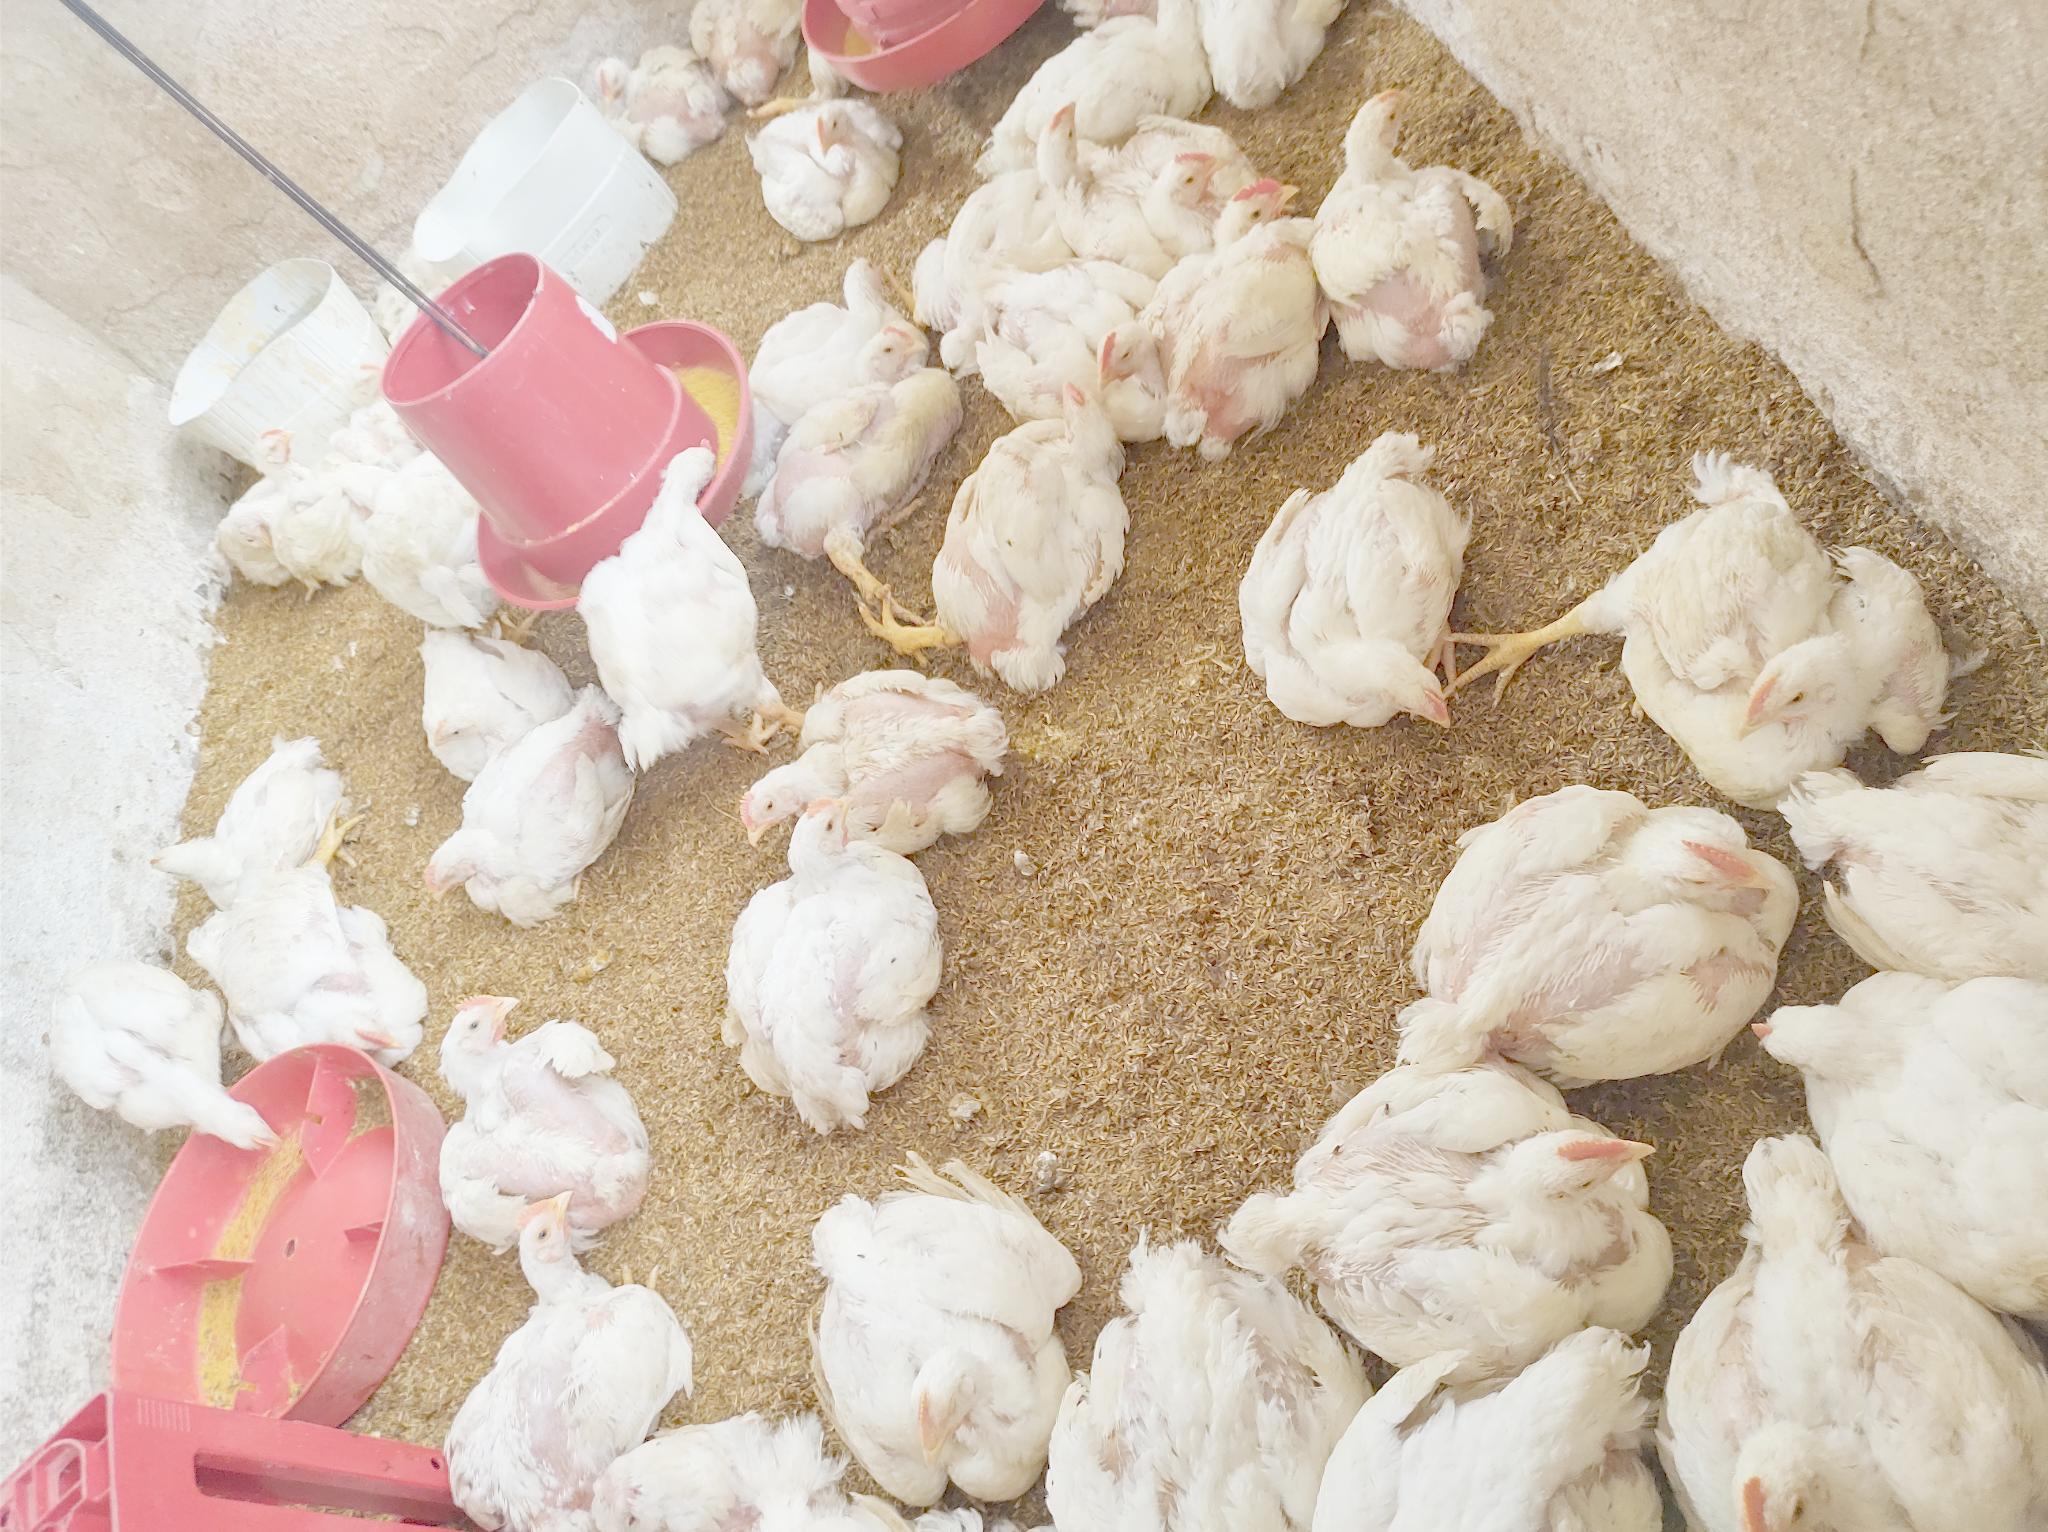Pollos: (1646, 1122, 2048, 1532), (1594, 444, 1955, 809), (1244, 1064, 1710, 1340), (1017, 1218, 1371, 1532), (1749, 969, 2046, 1332), (1404, 789, 1768, 1073), (714, 789, 936, 1152), (814, 1167, 1063, 1489), (442, 1188, 685, 1506), (1247, 444, 1480, 743), (1778, 713, 2048, 969), (573, 443, 777, 769), (1319, 85, 1532, 365), (936, 381, 1126, 690), (729, 658, 1002, 866), (428, 982, 647, 1238), (1084, 219, 1329, 446), (42, 949, 288, 1167), (193, 858, 426, 1072), (751, 323, 954, 570), (426, 710, 631, 929), (914, 85, 1091, 320), (137, 739, 357, 898), (970, 261, 1170, 431), (989, 0, 1200, 158), (409, 618, 581, 789), (333, 455, 507, 621), (740, 254, 911, 420), (203, 425, 336, 591), (753, 92, 901, 233), (1131, 130, 1228, 299), (587, 48, 726, 158), (228, 489, 373, 583), (692, 0, 811, 105), (1200, 167, 1305, 274)
